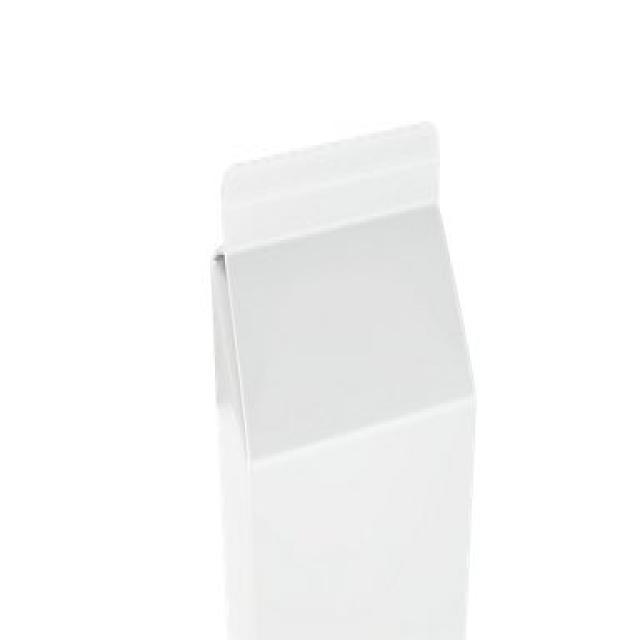Carton: (196, 133, 497, 640)
